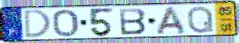5: (88, 7, 116, 38)
A: (155, 6, 188, 36)
B: (117, 7, 147, 36)
D: (24, 9, 53, 40)
O: (51, 9, 80, 38)
Q: (187, 5, 216, 35)
